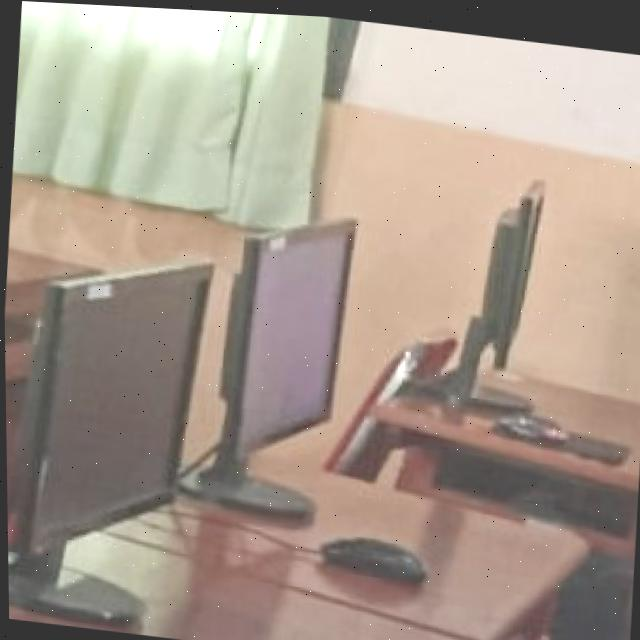offscreen: (20, 261, 208, 564), (481, 177, 541, 361)
onscreen: (243, 222, 351, 444)
